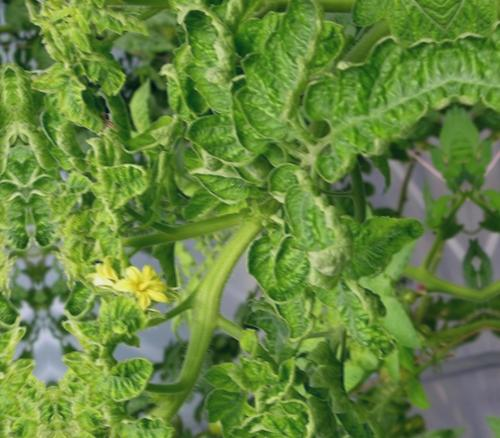Tomato leaf yellow virus: (293, 31, 463, 182), (231, 0, 341, 140), (231, 226, 342, 353), (269, 155, 355, 262), (179, 82, 270, 182), (191, 149, 262, 220), (49, 58, 105, 145), (99, 348, 163, 409), (99, 156, 155, 220), (109, 397, 185, 438)
